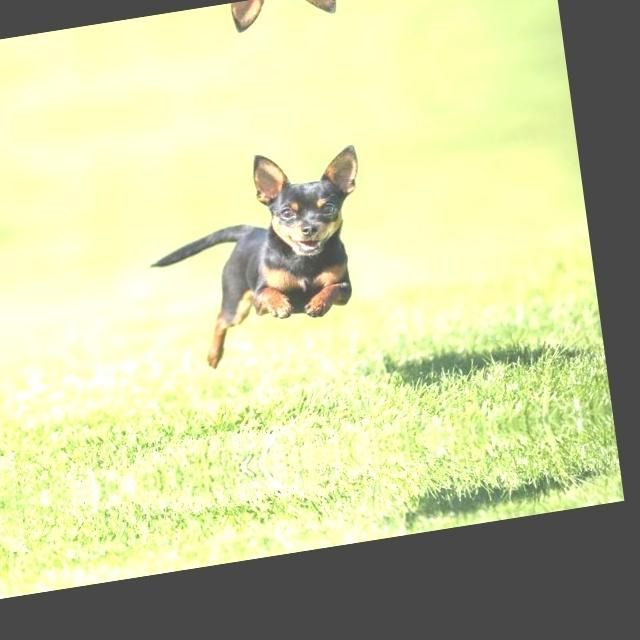dog: (130, 132, 396, 390), (111, 0, 352, 56), (184, 529, 420, 570)
